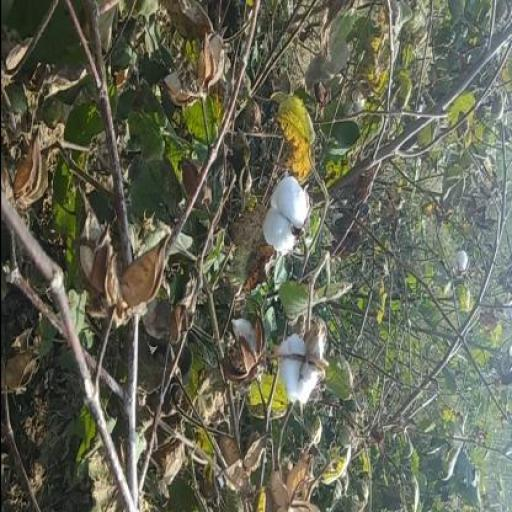cotton_ready: (240, 145, 330, 267), (260, 326, 336, 406)
